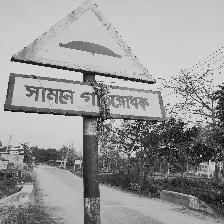Speed-breaker: (5, 8, 170, 124)
